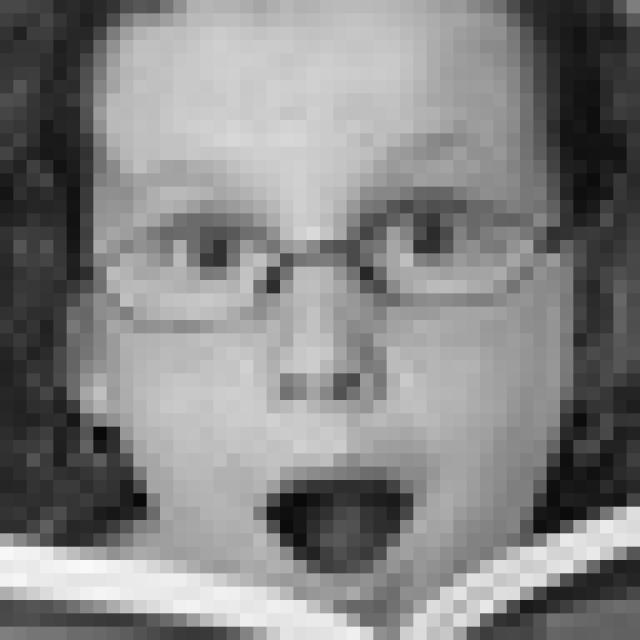surprise: (120, 140, 531, 600)
